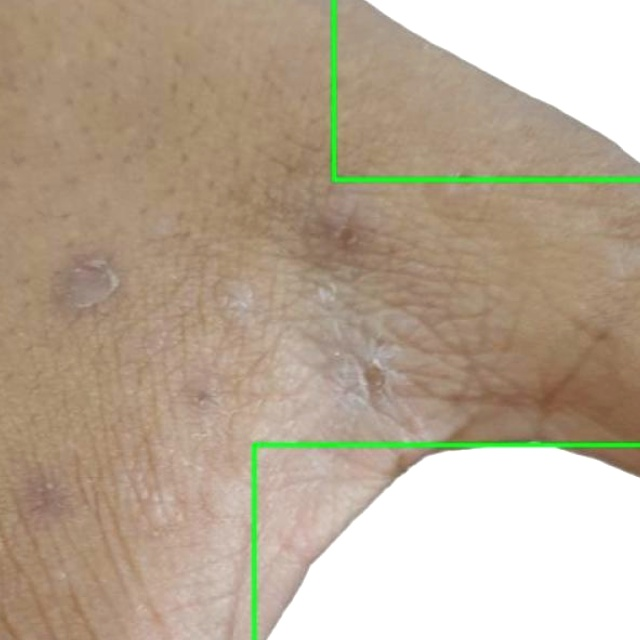Scabies: (254, 444, 639, 639), (334, 0, 639, 179)
